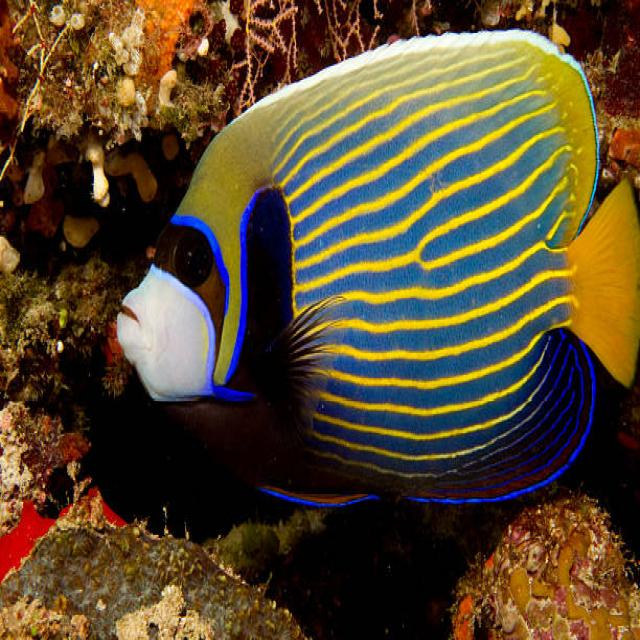AngelFish: (115, 35, 640, 510)
